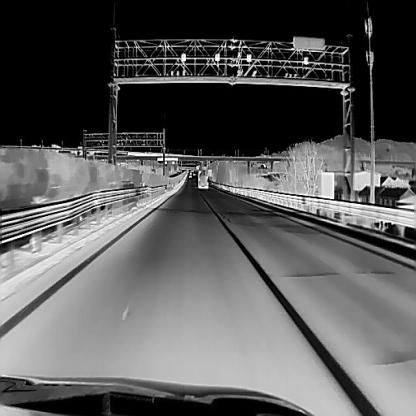truck: (197, 169, 208, 188)
